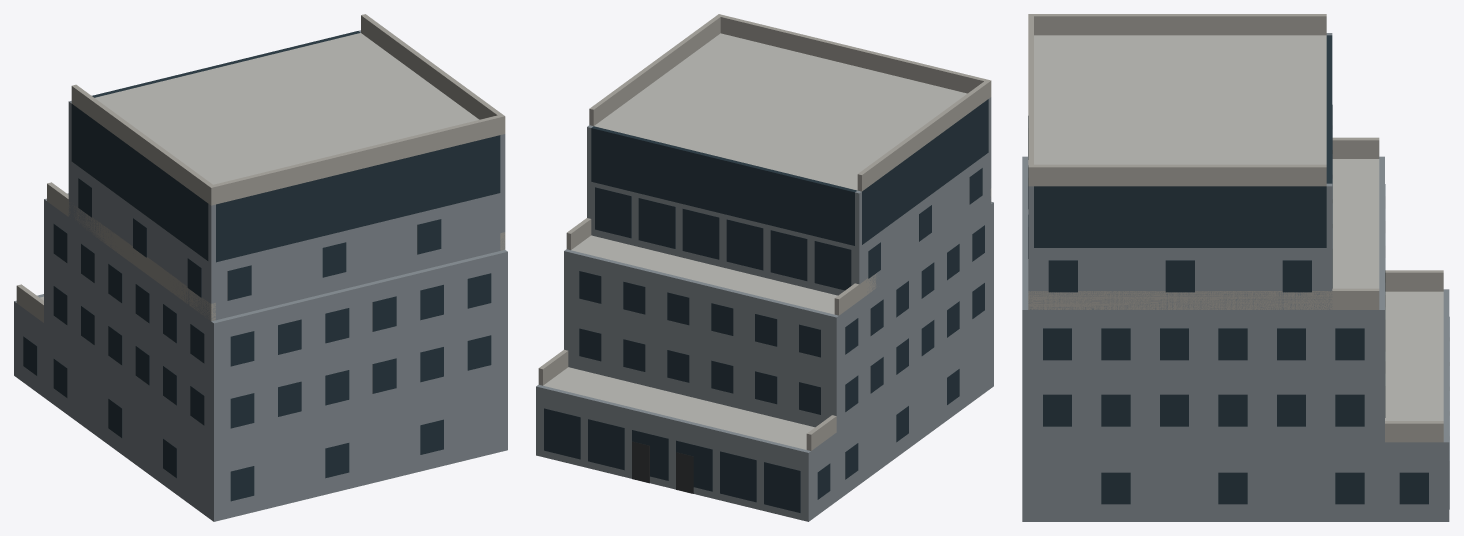
The model's file is bld_t4_office_quest.glb.
3 views of the same model, side by side, from view 1: azimuth 30°, elevation 25°; view 2: azimuth 150°, elevation 25°; view 3: azimuth 270°, elevation 25° (orthographic). The views are drawn at different scales.
Visible parts, largest first — view 1: bld_t4_office_quest-col; view 2: bld_t4_office_quest-col; view 3: bld_t4_office_quest-col.
Boxes of the visible parts, bbox=[...] form: bld_t4_office_quest-col: bbox=[14, 14, 507, 521]; bld_t4_office_quest-col: bbox=[536, 14, 993, 521]; bld_t4_office_quest-col: bbox=[1022, 14, 1449, 521].
Size of the model in its own units: 18.62 by 20.07 by 21.93.
